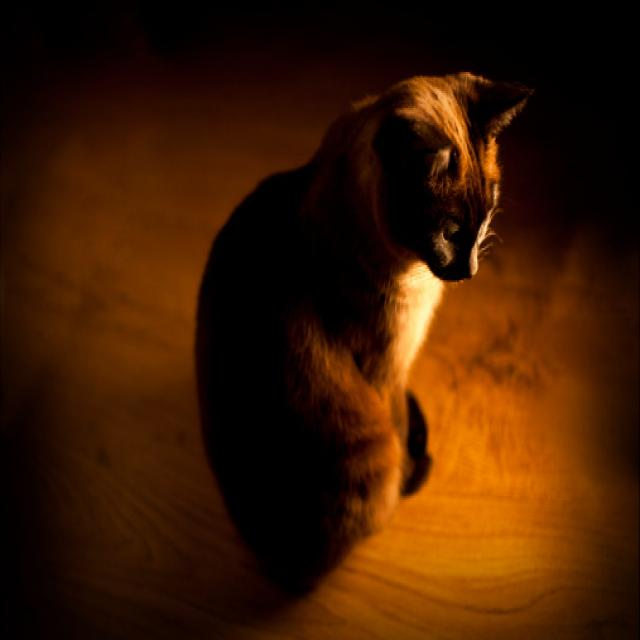Cat: (185, 52, 562, 629)
